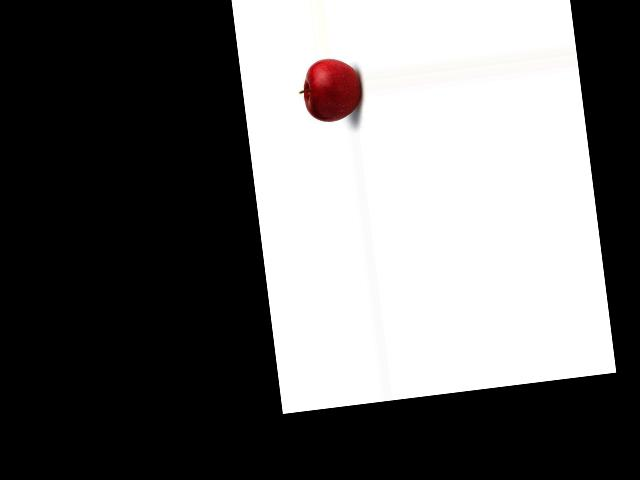apple: (294, 54, 366, 127)
